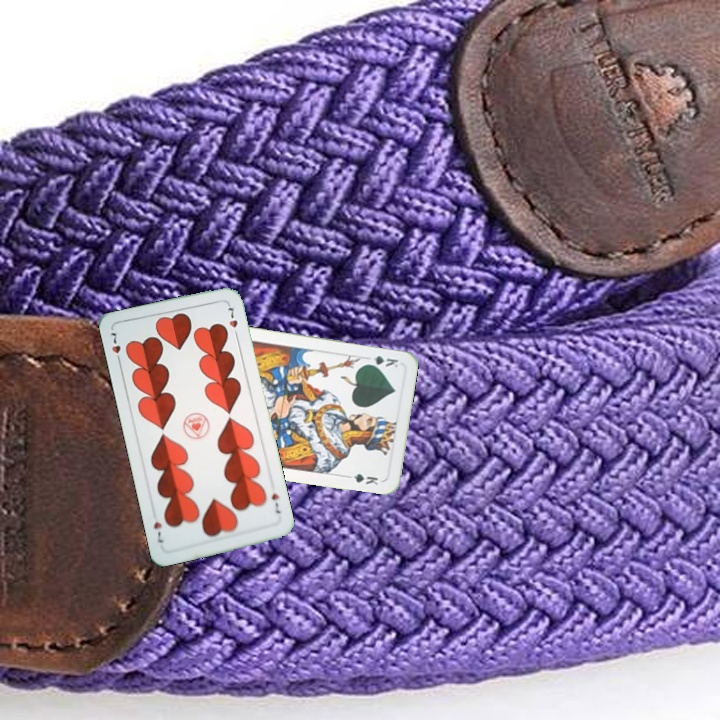GK: (361, 352, 401, 370)
H7: (105, 327, 123, 367), (267, 489, 283, 516)
